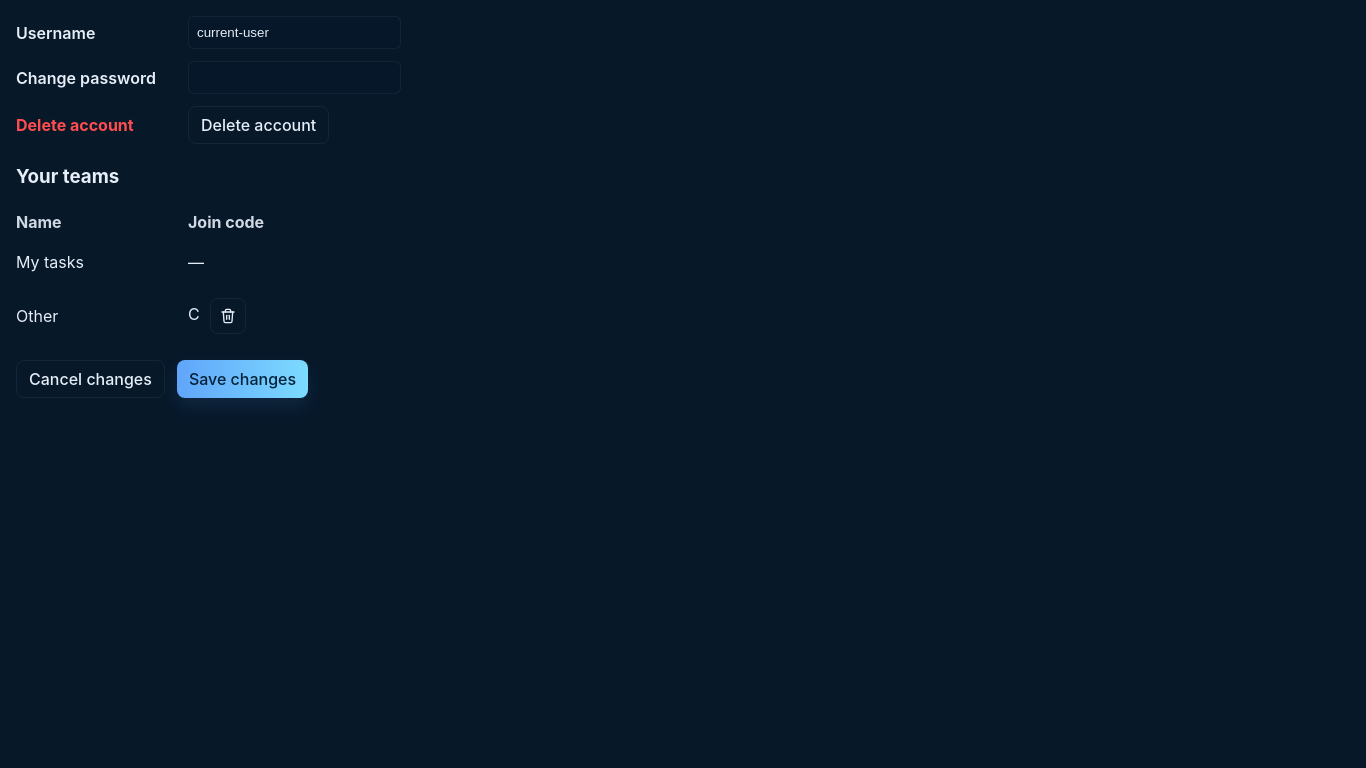
Test: UserSettings › removes a team after confirming removal
Click the button named "Leave Other".
click(228, 316)  # box [210,298,246,334]
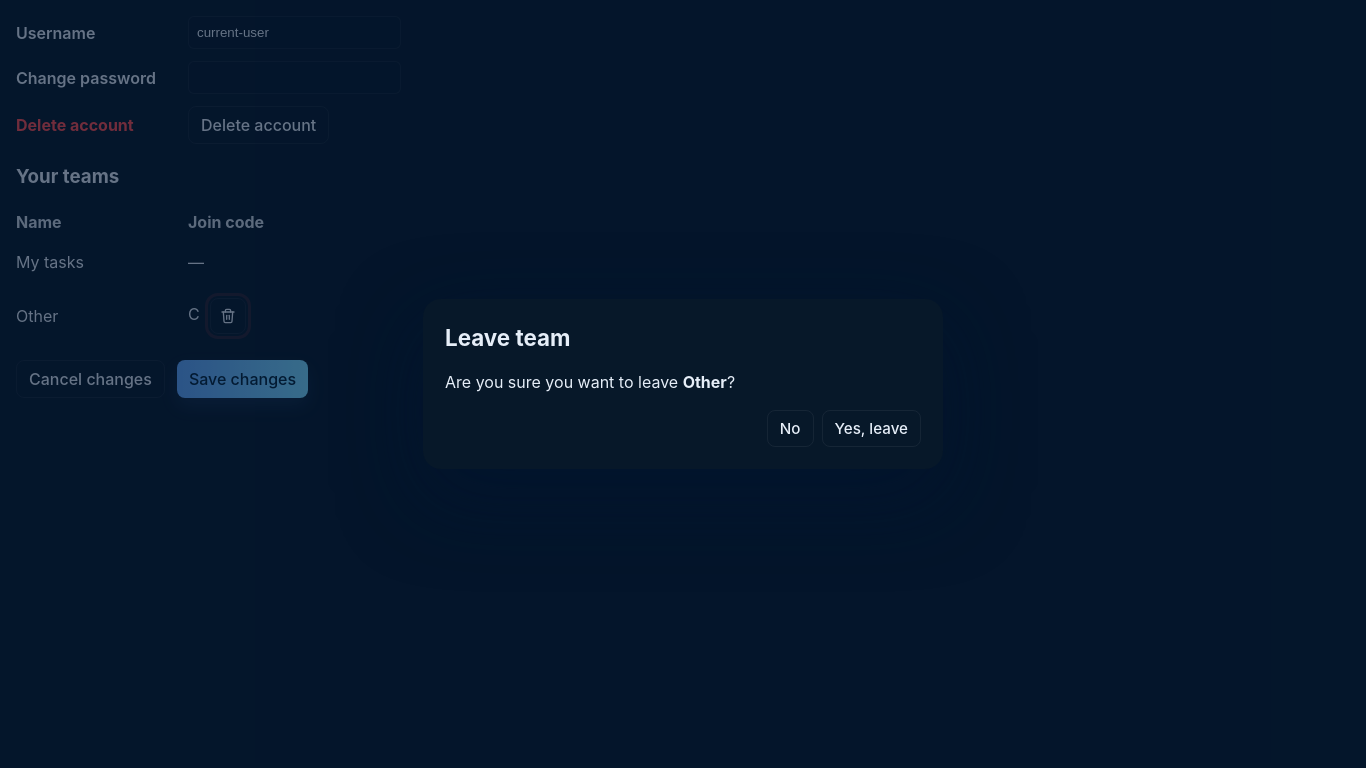
Check: the dialog is shown, box [423,299,943,469]
# click Yes to confirm removal (button text is 'Yes, leave')
Click the button "Yes, leave".
click(871, 429)  # box [822,410,921,447]
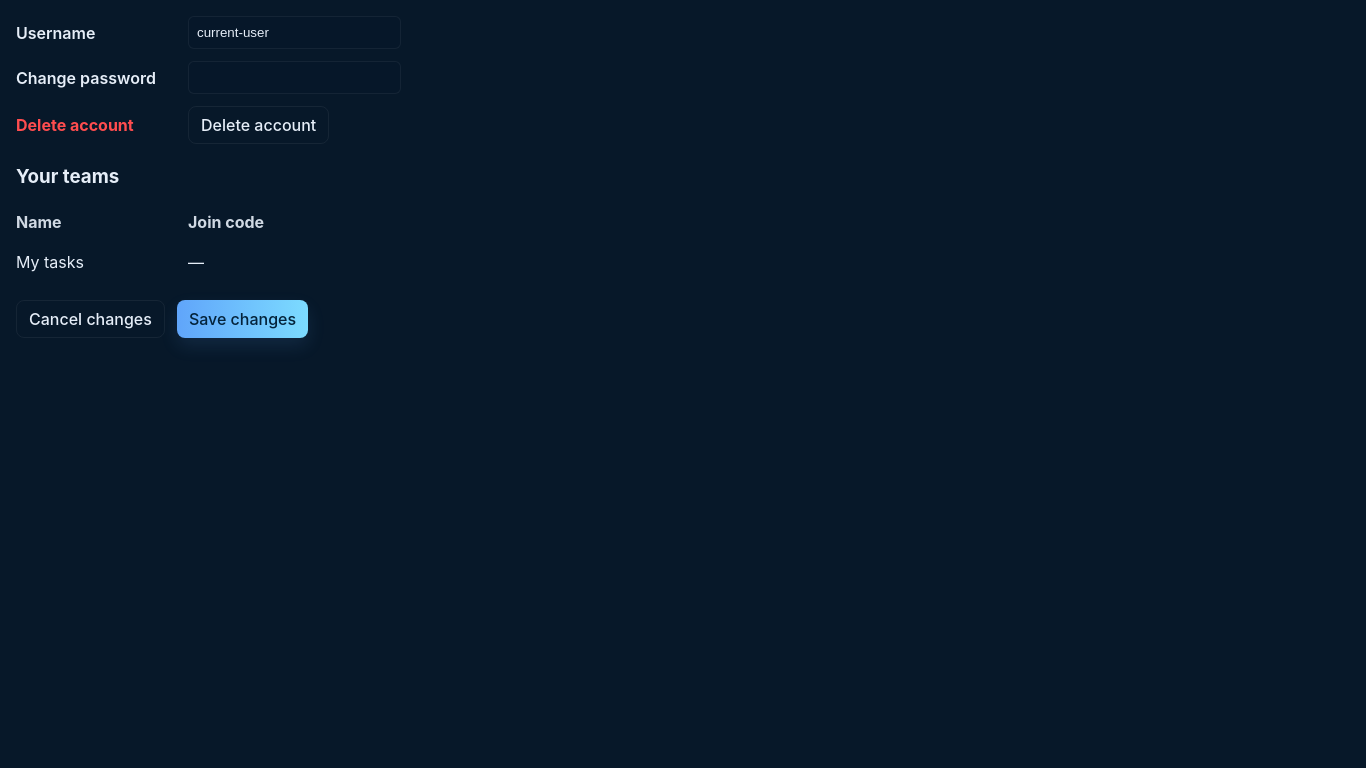
Check: the text "Other" is gone
